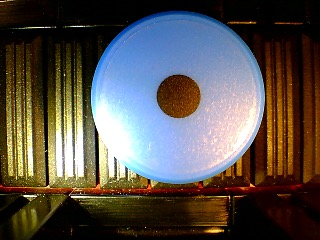BOHO: (90, 11, 265, 184)
